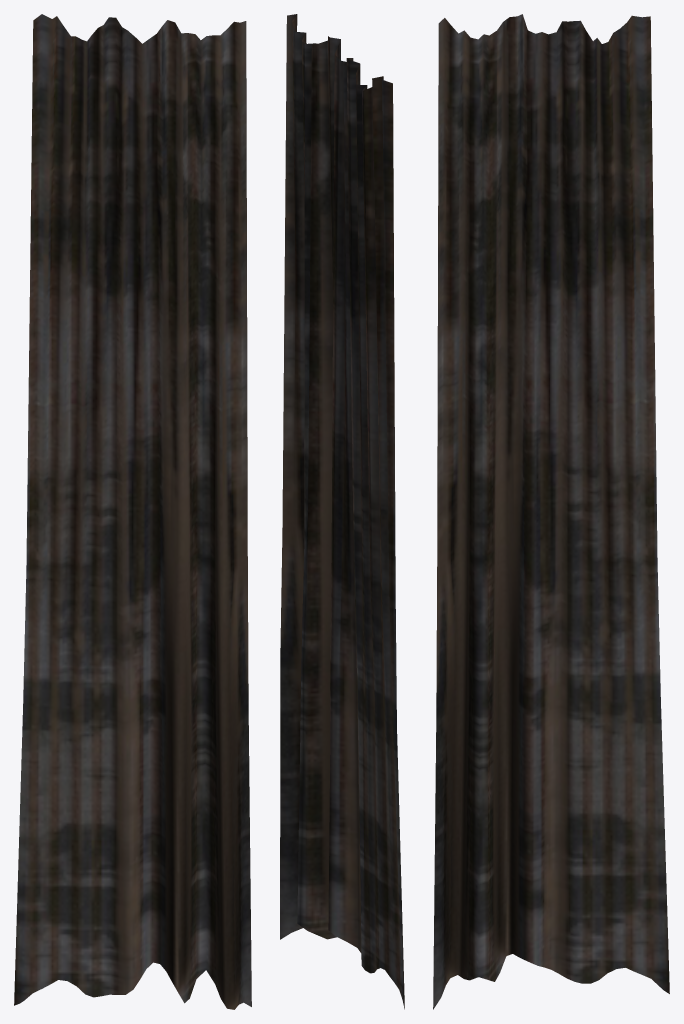
Rendered from CurtainClosed.FBX.
The picture shows the model from 3 angles, left to right: view 1: azimuth 90°, elevation 25°; view 2: azimuth 210°, elevation 25°; view 3: azimuth 270°, elevation 25°; orthographic projection. The views are drawn at different scales.
Parts seen in each view (by area): view 1: CurtainClosed; view 2: CurtainClosed; view 3: CurtainClosed.
Boxes of the visible parts, x1,y1,x2,y2 form: CurtainClosed: [14, 14, 251, 1009]; CurtainClosed: [280, 14, 404, 1009]; CurtainClosed: [433, 14, 669, 1009].
Bounding box in the file's own units: 13.2 × 279 × 60.51.
